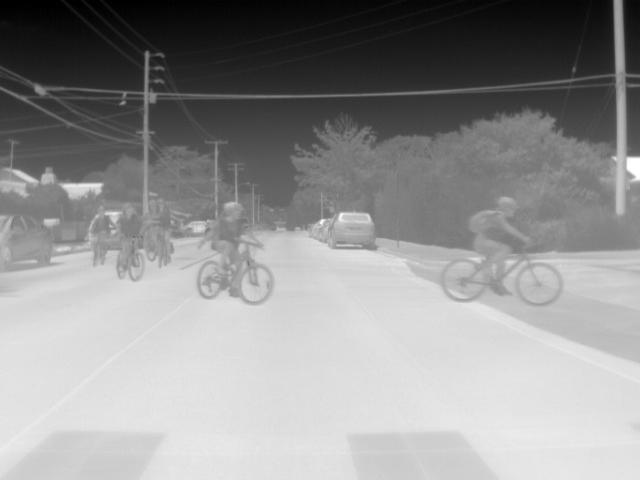car: (1, 214, 53, 266), (328, 211, 379, 251), (320, 219, 334, 244), (312, 219, 327, 238)
person: (467, 195, 534, 297), (209, 197, 260, 293), (153, 195, 191, 253), (117, 204, 144, 271), (89, 207, 113, 258), (144, 203, 159, 225)
